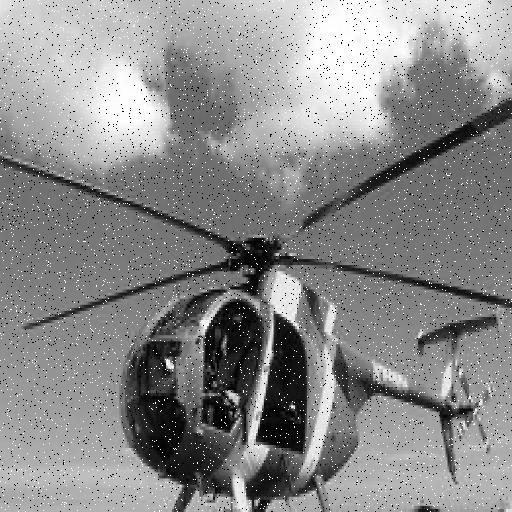helicopter: (3, 86, 512, 512)
